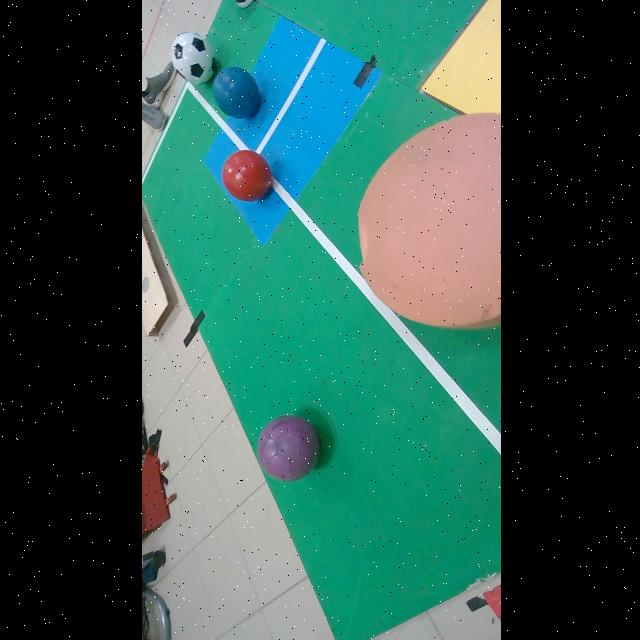B: (212, 66, 258, 119)
P: (255, 415, 318, 481)
R: (220, 151, 270, 202)
